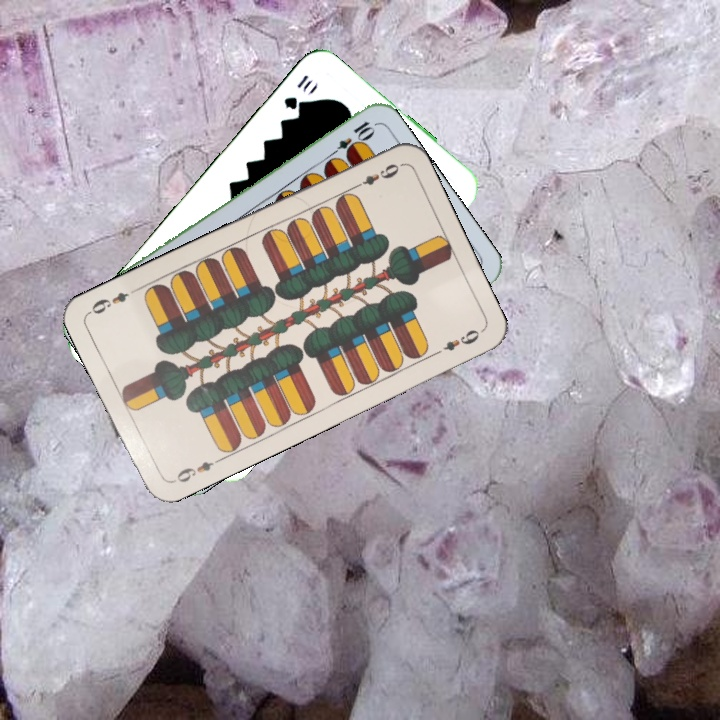E10: (324, 117, 377, 162)
E9: (348, 159, 404, 192), (167, 454, 223, 486)
G10: (280, 70, 316, 113)
